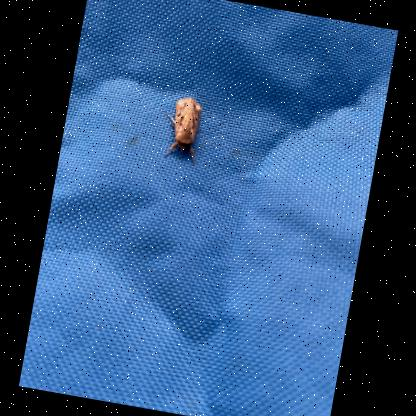Fall Armyworm Moth: (154, 90, 209, 168)
